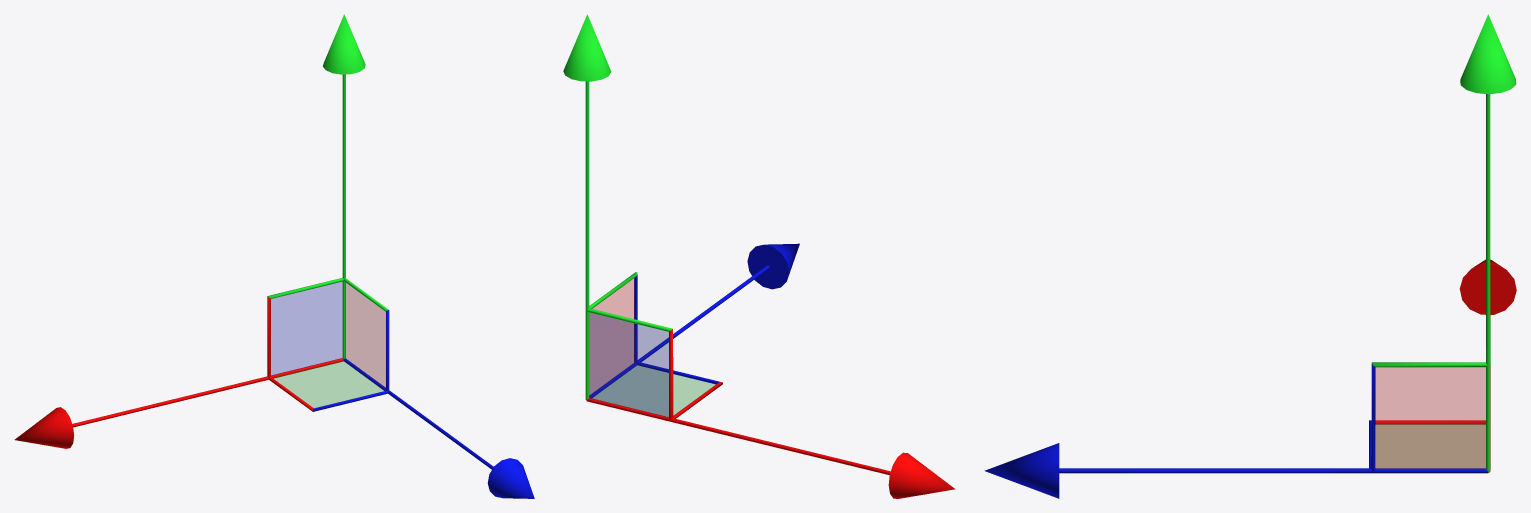
Rendered from 坐标轴.FBX.
3 renders of one model, left to right at view 1: azimuth 30°, elevation 25°; view 2: azimuth 150°, elevation 25°; view 3: azimuth 270°, elevation 25°, orthographic. The views are drawn at different scales.
Visible parts, largest first — view 1: 蓝面片, 红面片, 绿面片, 红, 绿, 蓝, 蓝002; view 2: 蓝面片, 红面片, 绿, 绿面片, 红, 蓝, 蓝002, 蓝001, 蓝003; view 3: 红面片, 绿面片, 蓝, 绿, 红, 蓝001, 蓝003.
Part boxes in pixels (x1,y1,x2,y2): 蓝面片: (271,282,342,375); 红面片: (345,282,385,387); 绿面片: (273,360,384,407); 红: (14,358,343,448); 绿: (323,14,365,358); 蓝: (343,358,534,498); 蓝002: (267,278,343,377); 蓝面片: (589,312,668,417); 红面片: (589,278,634,394); 绿: (563,14,611,399); 绿面片: (592,365,715,416); 红: (586,398,955,498); 蓝: (589,243,799,398); 蓝002: (586,308,673,420); 蓝001: (589,272,637,363); 蓝003: (637,362,722,418); 红面片: (1376,367,1485,468); 绿面片: (1376,423,1485,467); 蓝: (984,443,1488,498); 绿: (1460,14,1516,471); 红: (1459,259,1516,472); 蓝001: (1371,362,1487,471); 蓝003: (1369,420,1485,468).
Size of the model in its own units: 2.05 by 2.05 by 2.05.
